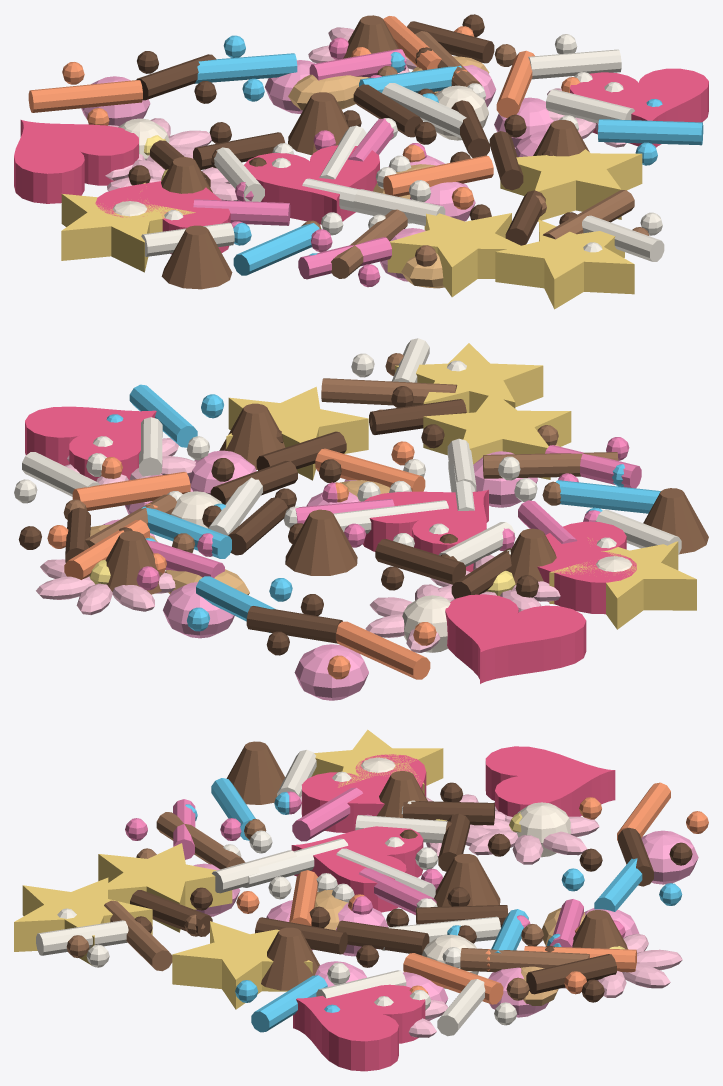
File: toppings_round_4_tier.glb
The picture shows the model from 3 angles, top to bottom: view 1: azimuth 30°, elevation 25°; view 2: azimuth 150°, elevation 25°; view 3: azimuth 270°, elevation 25°; orthographic projection. The views are drawn at different scales.
Visible parts, largest first — view 1: ToppingHeart_round_4_01, ToppingStar_round_4_02, ToppingStar_round_4_00, ToppingStar_round_4_03, ToppingHeart_round_4_00, ToppingStar_round_4_01, ToppingHeart_round_4_02, ToppingHeart_round_4_03, ToppingChocolateChip_round_4_03, ToppingSprinkle_round_4_07_Body, ToppingSprinkle_round_4_16_Body, ToppingSprinkle_round_4_11_Body (+44 smaller); view 2: ToppingHeart_round_4_01, ToppingHeart_round_4_02, ToppingStar_round_4_03, ToppingStar_round_4_01, ToppingHeart_round_4_03, ToppingStar_round_4_02, ToppingHeart_round_4_00, ToppingStar_round_4_00, ToppingChocolateChip_round_4_00, ToppingDot_round_4_07, ToppingSprinkle_round_4_02_Body, ToppingSprinkle_round_4_04_Body (+45 smaller); view 3: ToppingHeart_round_4_02, ToppingHeart_round_4_01, ToppingStar_round_4_00, ToppingStar_round_4_03, ToppingHeart_round_4_00, ToppingStar_round_4_02, ToppingHeart_round_4_03, ToppingStar_round_4_01, ToppingChocolateChip_round_4_03, ToppingChocolateChip_round_4_01, ToppingSprinkle_round_4_09_Body, ToppingChocolateChip_round_4_00 (+45 smaller).
Boxes of the visible parts, box(x1,y1,x2,y2) form: ToppingHeart_round_4_01: box(14, 120, 138, 203); ToppingStar_round_4_02: box(495, 220, 634, 309); ToppingStar_round_4_00: box(500, 149, 642, 221); ToppingStar_round_4_03: box(387, 213, 526, 297); ToppingHeart_round_4_00: box(244, 145, 379, 224); ToppingStar_round_4_01: box(61, 182, 195, 272); ToppingHeart_round_4_02: box(570, 68, 708, 147); ToppingHeart_round_4_03: box(95, 181, 230, 254); ToppingChocolateChip_round_4_03: box(161, 225, 232, 289); ToppingSprinkle_round_4_07_Body: box(28, 80, 142, 112); ToppingSprinkle_round_4_16_Body: box(598, 119, 703, 145); ToppingSprinkle_round_4_11_Body: box(194, 53, 297, 83); ToppingHeart_round_4_01: box(445, 594, 586, 683); ToppingHeart_round_4_02: box(25, 406, 156, 481); ToppingStar_round_4_03: box(423, 391, 571, 479); ToppingStar_round_4_01: box(549, 537, 696, 629); ToppingHeart_round_4_03: box(537, 521, 636, 614); ToppingStar_round_4_02: box(395, 343, 543, 412); ToppingHeart_round_4_00: box(362, 489, 488, 571); ToppingStar_round_4_00: box(226, 386, 368, 480); ToppingChocolateChip_round_4_00: box(285, 509, 357, 575); ToppingDot_round_4_07: box(294, 644, 368, 700); ToppingSprinkle_round_4_02_Body: box(72, 472, 190, 510); ToppingSprinkle_round_4_04_Body: box(321, 378, 457, 405); ToppingHeart_round_4_02: box(293, 984, 425, 1071); ToppingHeart_round_4_01: box(485, 746, 615, 816); ToppingStar_round_4_00: box(172, 921, 312, 1009); ToppingStar_round_4_03: box(98, 843, 232, 932); ToppingHeart_round_4_00: box(291, 826, 423, 912); ToppingStar_round_4_02: box(14, 877, 152, 965); ToppingHeart_round_4_03: box(301, 754, 426, 832); ToppingStar_round_4_01: box(311, 729, 443, 794); ToppingChocolateChip_round_4_03: box(226, 741, 285, 804); ToppingChocolateChip_round_4_01: box(261, 927, 319, 990); ToppingSprinkle_round_4_09_Body: box(460, 948, 589, 972); ToppingChocolateChip_round_4_00: box(434, 853, 500, 906).
Size of the model in its own units: 0.8916 by 0.0993 by 0.8394.
